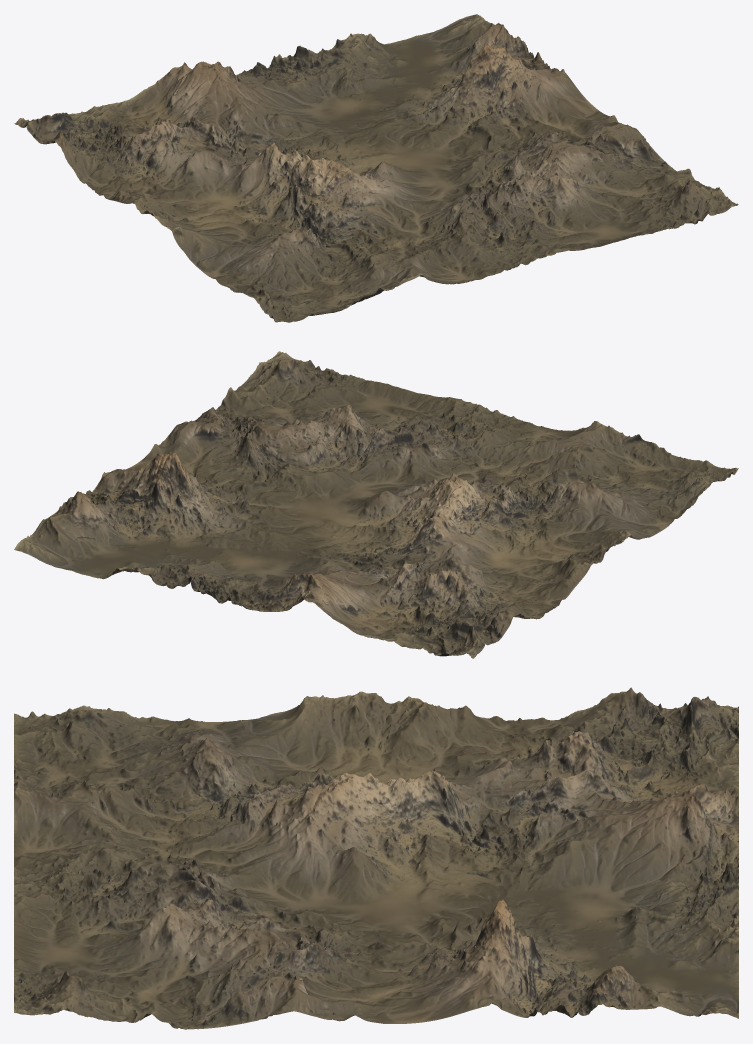
Rendered from death_valley-hi.glb.
3 views of the same model, one above another, from view 1: azimuth 30°, elevation 25°; view 2: azimuth 150°, elevation 25°; view 3: azimuth 270°, elevation 25° (orthographic). The views are drawn at different scales.
Parts seen in each view (by area): view 1: Object_2; view 2: Object_2; view 3: Object_2.
Part boxes in pixels (left/top/right/bottom): Object_2: left=14, top=14, right=738, bottom=322; Object_2: left=14, top=351, right=738, bottom=658; Object_2: left=14, top=687, right=738, bottom=1029.
Bounding box in the file's own units: 1 × 0.1231 × 1.
1 material, 1 textured.
